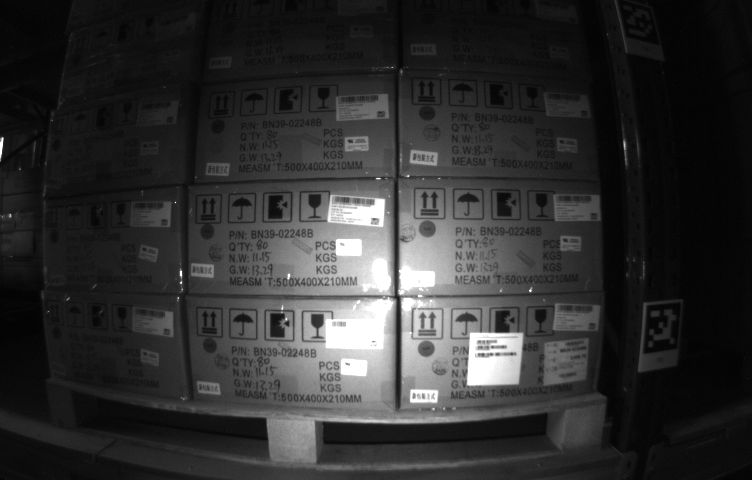True Barcode: (543, 340, 587, 384)
